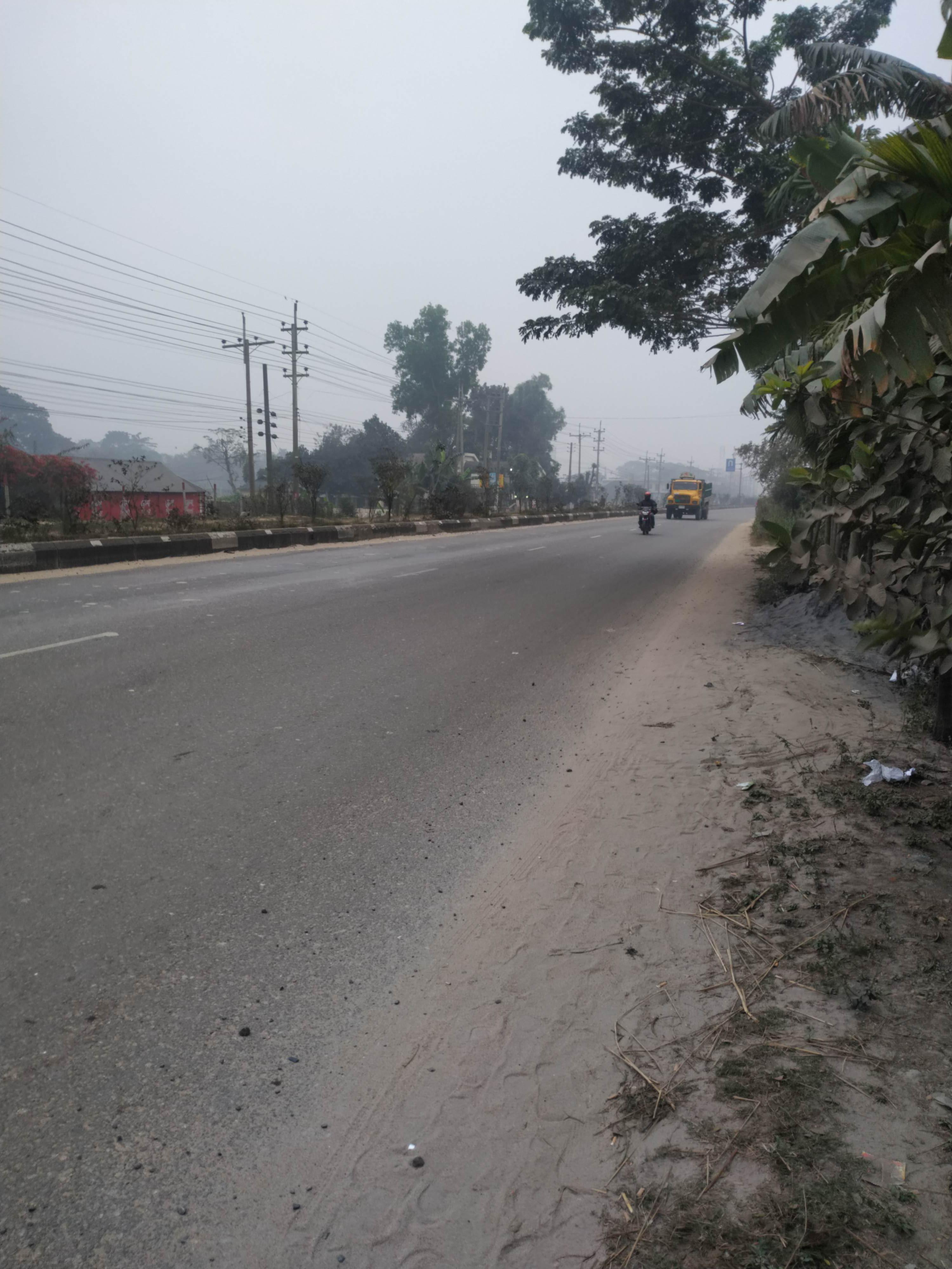Bike: (625, 486, 666, 552)
Truck: (657, 466, 722, 541)
